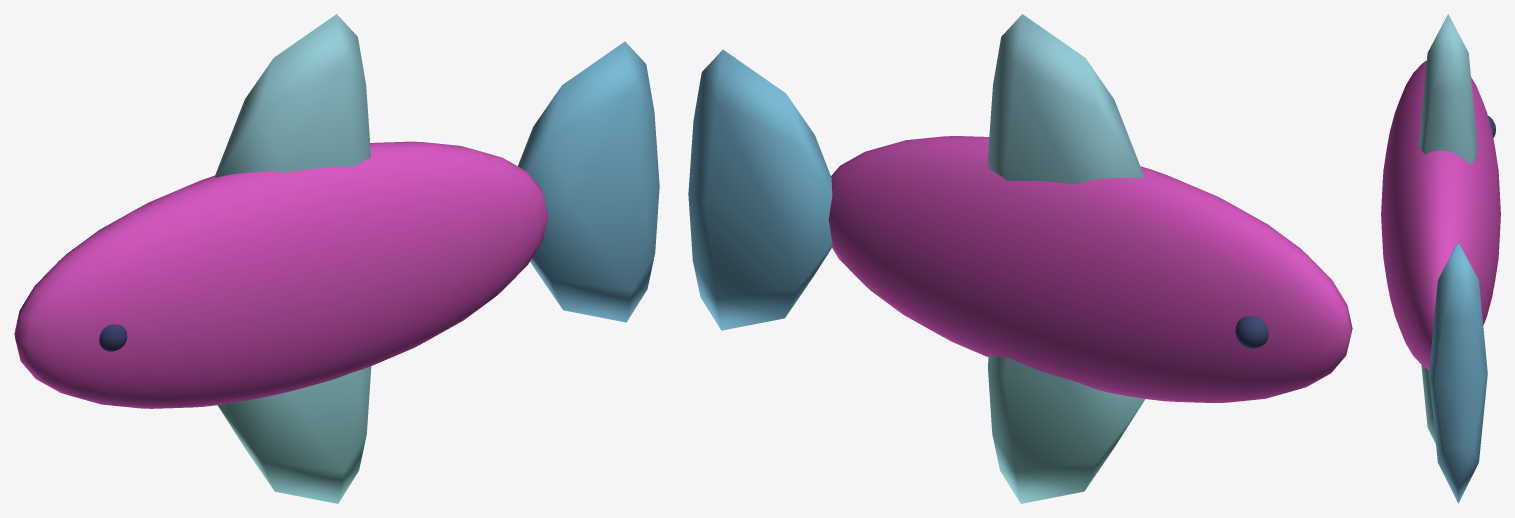
The model's file is fish.dae.
The picture shows the model from 3 angles, left to right: view 1: azimuth 30°, elevation 25°; view 2: azimuth 150°, elevation 25°; view 3: azimuth 270°, elevation 25°; orthographic projection. The views are drawn at different scales.
Parts seen in each view (by area): view 1: Sphere001, Pyramid001, Pyramid002, Pyramid003; view 2: Sphere001, Pyramid001, Pyramid002, Pyramid003, GeoSphere002; view 3: Sphere001, Pyramid001, Pyramid002, Pyramid003.
Part boxes in pixels (x1,y1,x2,y2): Sphere001: (14, 141, 548, 408); Pyramid001: (518, 41, 659, 322); Pyramid002: (214, 14, 371, 177); Pyramid003: (217, 366, 371, 503); Sphere001: (828, 136, 1352, 402); Pyramid001: (688, 49, 832, 330); Pyramid002: (988, 14, 1144, 184); Pyramid003: (988, 355, 1145, 503); GeoSphere002: (1235, 316, 1268, 348); Sphere001: (1381, 60, 1500, 369); Pyramid001: (1429, 242, 1487, 503); Pyramid002: (1418, 14, 1477, 164); Pyramid003: (1421, 365, 1435, 443).
Size of the model in its own units: 0.6478 by 0.1137 by 0.4732.
